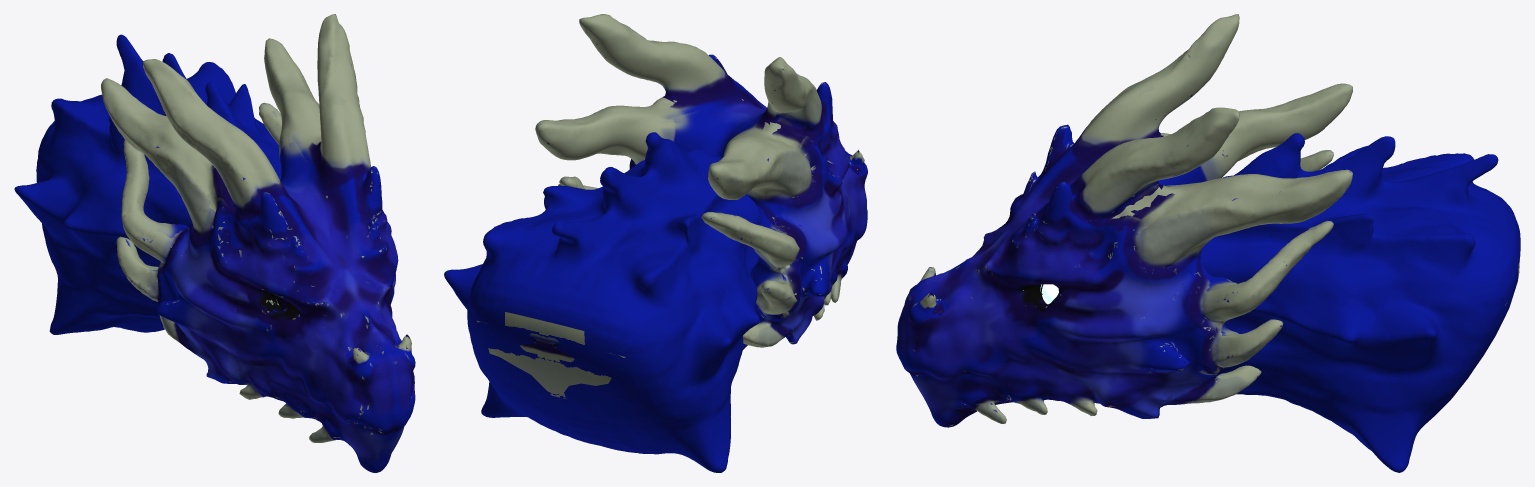
File: asset.glb
3 views of the same model, side by side, from view 1: azimuth 30°, elevation 25°; view 2: azimuth 150°, elevation 25°; view 3: azimuth 270°, elevation 25° (orthographic). The views are drawn at different scales.
Parts seen in each view (by area): view 1: Cube, Cube.001; view 2: Cube.001, Cube; view 3: Cube, Cube.001.
Part boxes in pixels (bbox=[...]): Cube: bbox=[101, 14, 415, 472]; Cube.001: bbox=[14, 34, 281, 334]; Cube.001: bbox=[444, 132, 759, 472]; Cube: bbox=[535, 14, 867, 347]; Cube: bbox=[896, 14, 1352, 427]; Cube.001: bbox=[1200, 133, 1520, 472].
Size of the model in its own units: 2.55 by 3.05 by 4.73.
3 materials, 1 textured.
